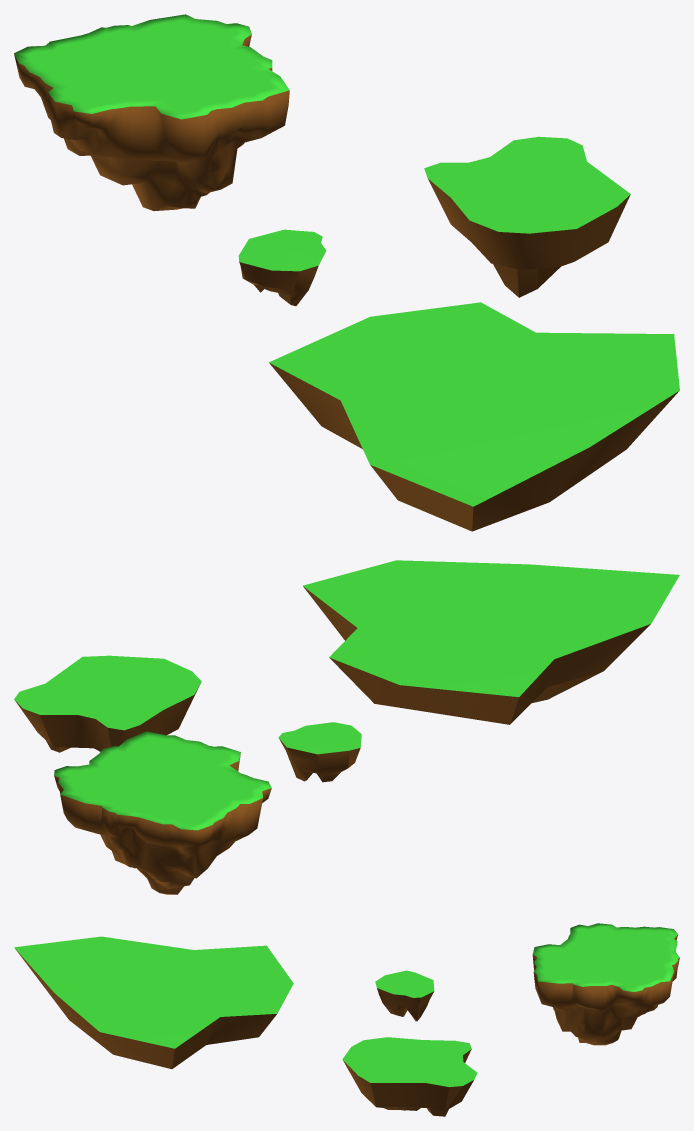
File: Fluing_Island_fixM.fbx
The picture shows the model from 3 angles, top to bottom: view 1: azimuth 30°, elevation 25°; view 2: azimuth 150°, elevation 25°; view 3: azimuth 270°, elevation 25°; orthographic projection. The views are drawn at different scales.
Parts seen in each view (by area): view 1: Plane.002, Rock1.001, Plane.001, Plane; view 2: Plane.002, Rock1.001, Plane.001, Plane; view 3: Plane.002, Rock1.001, Plane.001, Plane.
Boxes of the visible parts, x1=… form: Plane.002: x1=269, y1=302, x2=679, y2=531; Rock1.001: x1=14, y1=14, x2=289, y2=210; Plane.001: x1=424, y1=136, x2=630, y2=297; Plane: x1=238, y1=229, x2=326, y2=306; Plane.002: x1=303, y1=560, x2=679, y2=724; Rock1.001: x1=54, y1=731, x2=271, y2=894; Plane.001: x1=14, y1=655, x2=201, y2=752; Plane: x1=278, y1=722, x2=361, y2=782; Plane.002: x1=14, y1=936, x2=293, y2=1069; Rock1.001: x1=532, y1=923, x2=679, y2=1045; Plane.001: x1=342, y1=1037, x2=477, y2=1116; Plane: x1=375, y1=970, x2=434, y2=1021.
Bounding box in the file's own units: 2031 × 614 × 3793.
